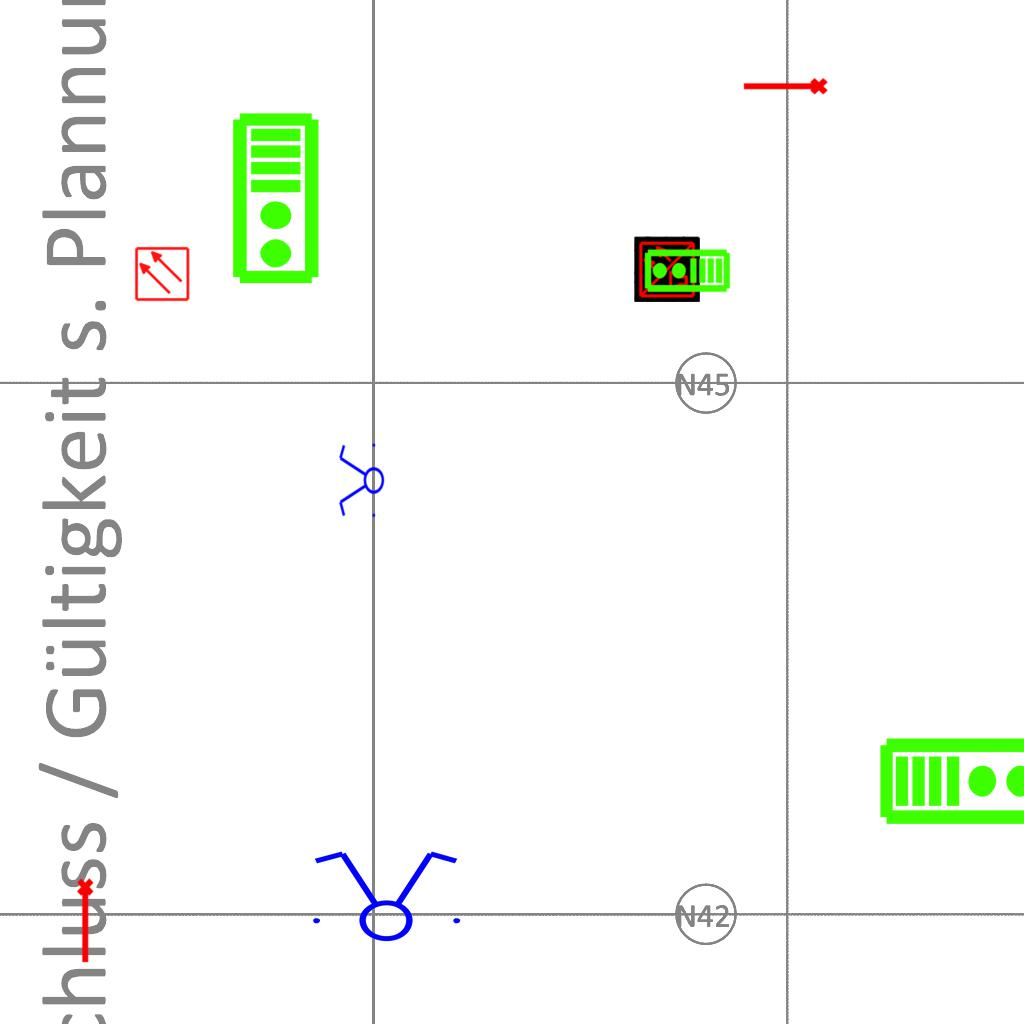ASR_Ansaugoeffnung: (75, 877, 98, 965), (741, 76, 829, 99)
Gegensprechanlage_mit_Video: (230, 111, 325, 287), (878, 732, 1024, 827), (643, 248, 731, 295)
OKW_Multisensormelder_(Kombination_optischer_Rauch-Kahlenmonoxid_Waerme-Melder): (634, 236, 700, 302)
RMO_Rauchmelder_optischer: (134, 246, 190, 302)
Serienschalter: (301, 847, 469, 943), (337, 439, 385, 523)
